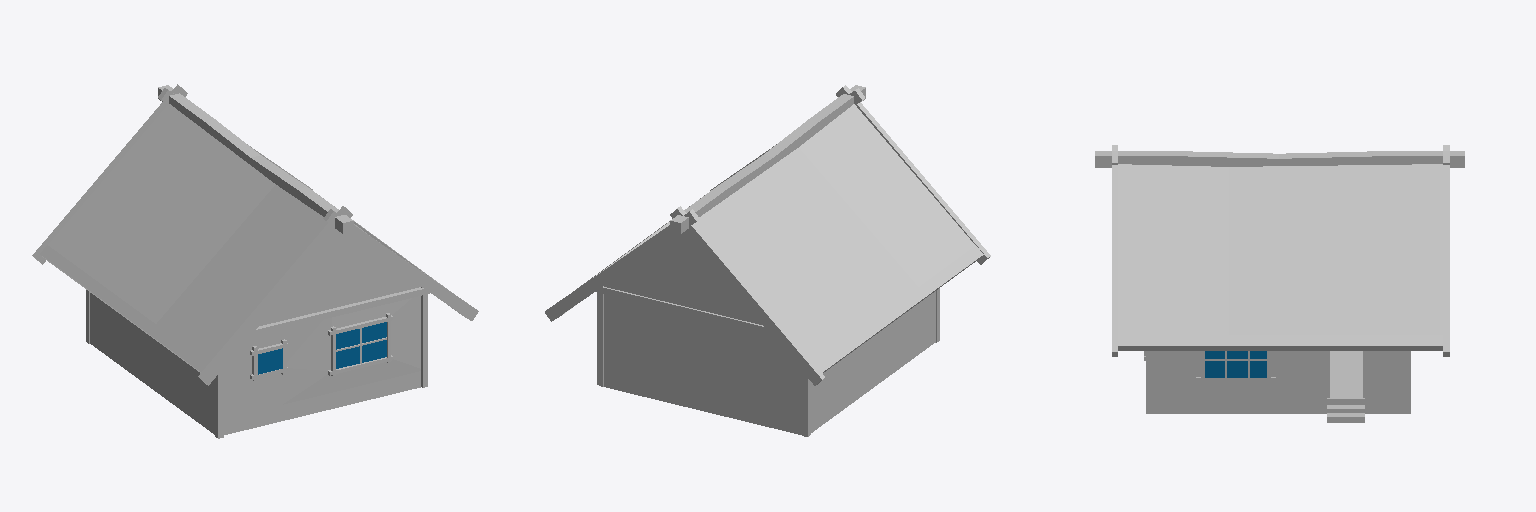
The picture shows the model from 3 angles: view 1: azimuth 30°, elevation 25°; view 2: azimuth 150°, elevation 25°; view 3: azimuth 270°, elevation 25°; orthographic projection.
Parts seen in each view (by area): view 1: Plane.008; view 2: Plane.008; view 3: Plane.008.
Boxes of the visible parts, x1,y1,x2,y2 form: Plane.008: [32, 84, 478, 438]; Plane.008: [545, 85, 990, 436]; Plane.008: [1095, 145, 1464, 422].
Bounding box in the file's own units: 4.16 × 3.09 × 4.8.
2 materials, 1 textured.